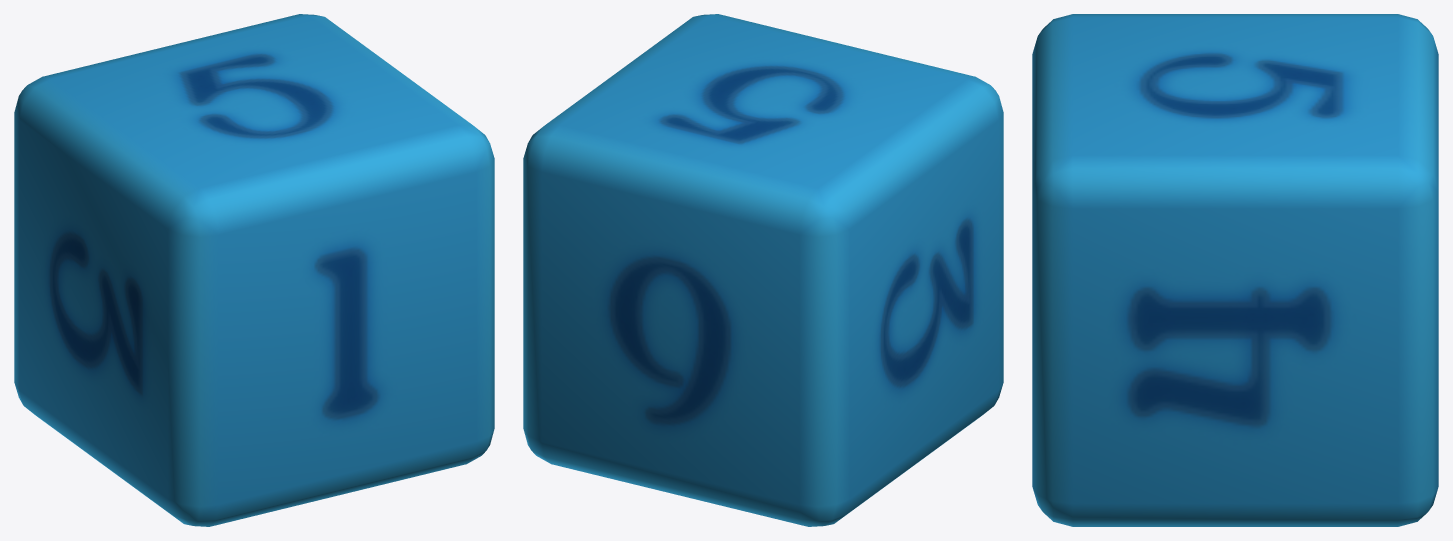
Rendered from D6_C_blue.obj.
3 views of the same model, side by side, from view 1: azimuth 30°, elevation 25°; view 2: azimuth 150°, elevation 25°; view 3: azimuth 270°, elevation 25° (orthographic). The views are drawn at different scales.
Parts seen in each view (by area): view 1: D6_C_blue; view 2: D6_C_blue; view 3: D6_C_blue.
Part boxes in pixels (x1,y1,x2,y2): D6_C_blue: (14,14,494,526); D6_C_blue: (523,14,1003,526); D6_C_blue: (1032,14,1438,526).
Size of the model in its own units: 0.75 by 0.75 by 0.75.
Materials: 1 (1 with a texture image).
